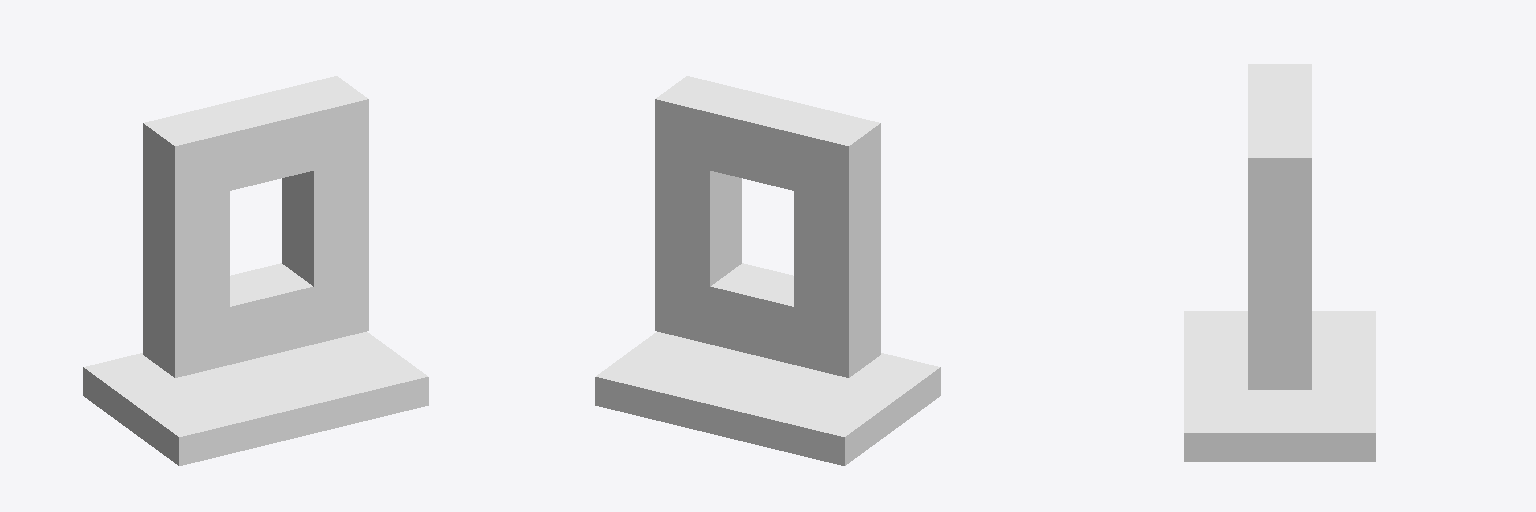
Rendered from toy-store-4-o.obj.
The picture shows the model from 3 angles: view 1: azimuth 30°, elevation 25°; view 2: azimuth 150°, elevation 25°; view 3: azimuth 270°, elevation 25°; orthographic projection.
Visible parts, largest first — view 1: o; view 2: o; view 3: o.
Part boxes in pixels (x1,y1,x2,y2): o: (83, 76, 428, 465); o: (595, 76, 940, 465); o: (1184, 64, 1375, 461).
Size of the model in its own units: 0.9 by 1 by 0.6.